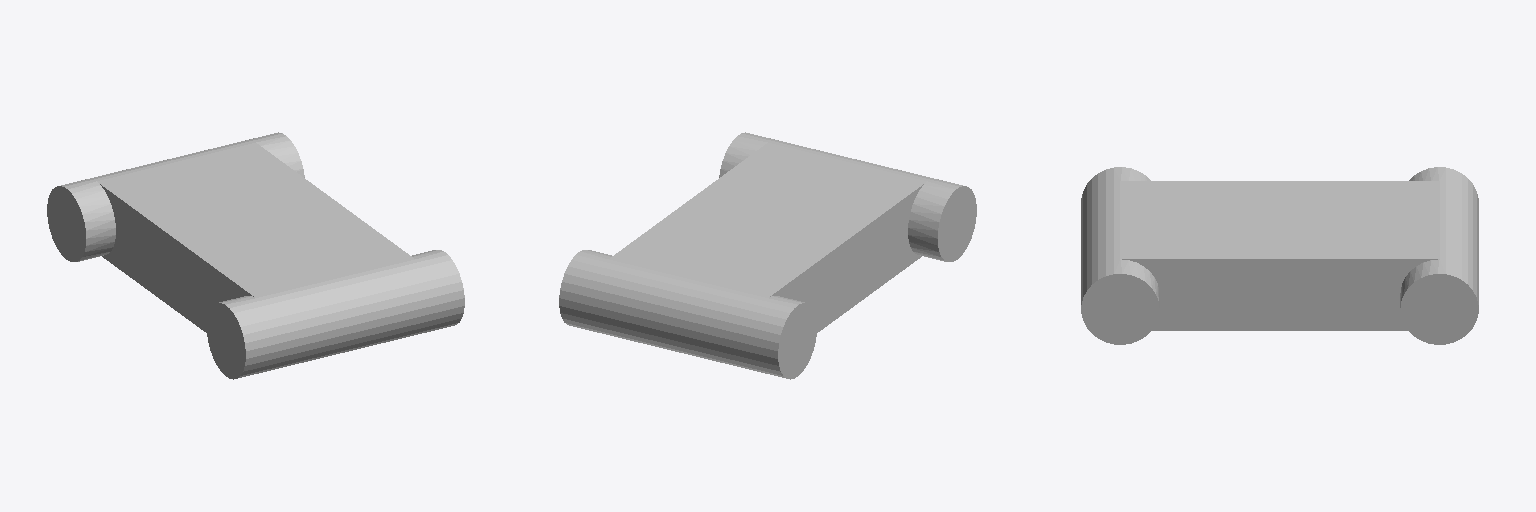
Rendered from soft_body_simplified_00_deg.obj.
3 renders of one model, left to right at view 1: azimuth 30°, elevation 25°; view 2: azimuth 150°, elevation 25°; view 3: azimuth 270°, elevation 25°, orthographic.
Parts seen in each view (by area): view 1: Solid1; view 2: Solid1; view 3: Solid1.
Boxes of the visible parts, box(x1,y1,x2,y2) form: Solid1: box(47, 132, 464, 379); Solid1: box(559, 132, 976, 379); Solid1: box(1081, 167, 1478, 344).
Bounding box in the file's own units: 206 × 64 × 324.